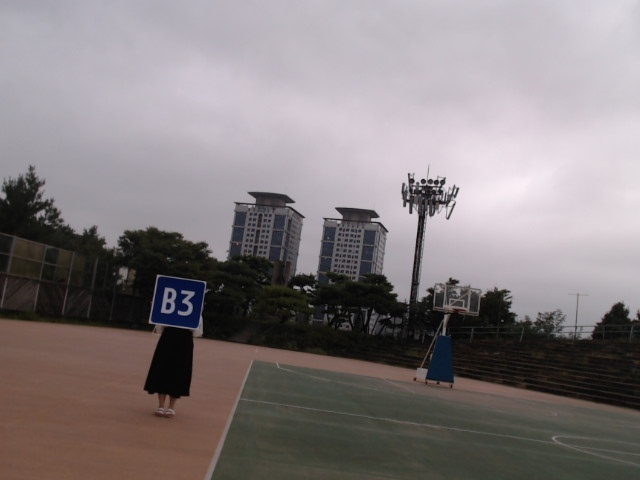delivery_b3: (149, 275, 207, 330)
